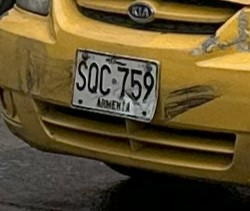number plate: (0, 0, 249, 184), (72, 49, 158, 121)
